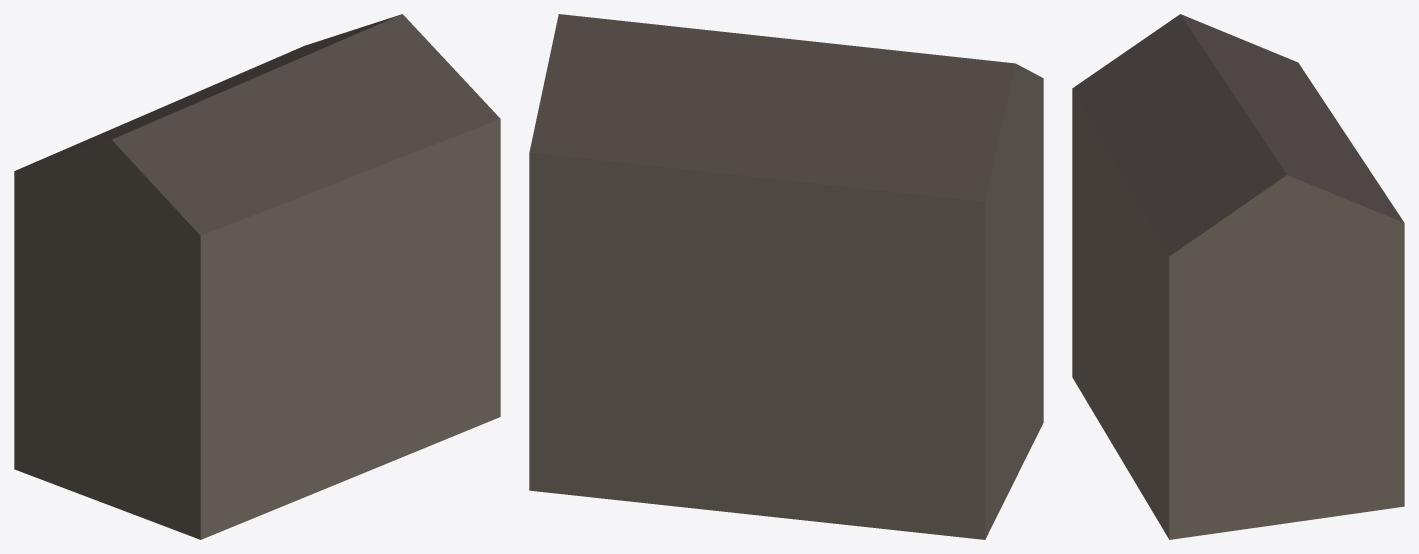
3 renders of one model, left to right at view 1: azimuth 30°, elevation 25°; view 2: azimuth 150°, elevation 25°; view 3: azimuth 270°, elevation 25°, orthographic. The views are drawn at different scales.
Parts seen in each view (by area): view 1: HP-w783664787; view 2: HP-w783664787; view 3: HP-w783664787.
Part boxes in pixels (left/top/right/bottom): HP-w783664787: left=14, top=14, right=500, bottom=539; HP-w783664787: left=529, top=14, right=1043, bottom=539; HP-w783664787: left=1072, top=14, right=1404, bottom=539.
Bounding box in the file's own units: 8.8 × 7.37 × 6.38.
